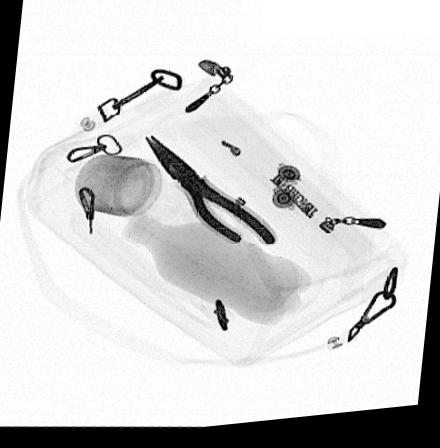Pliers: (140, 134, 279, 253)
